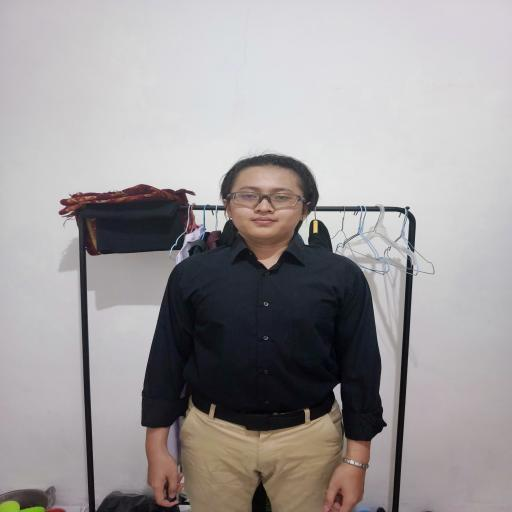celana_salah: (175, 409, 351, 512)
kemeja_salah: (155, 251, 382, 414)
sabuk_ada: (186, 394, 346, 435)
